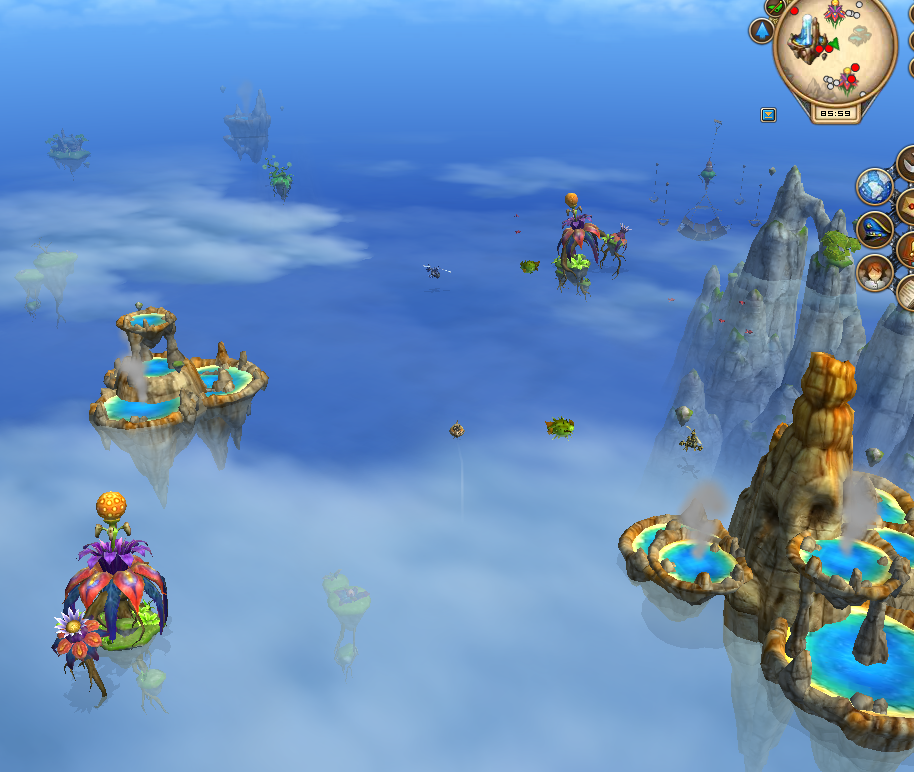dandelion-full: (255, 148, 294, 200)
